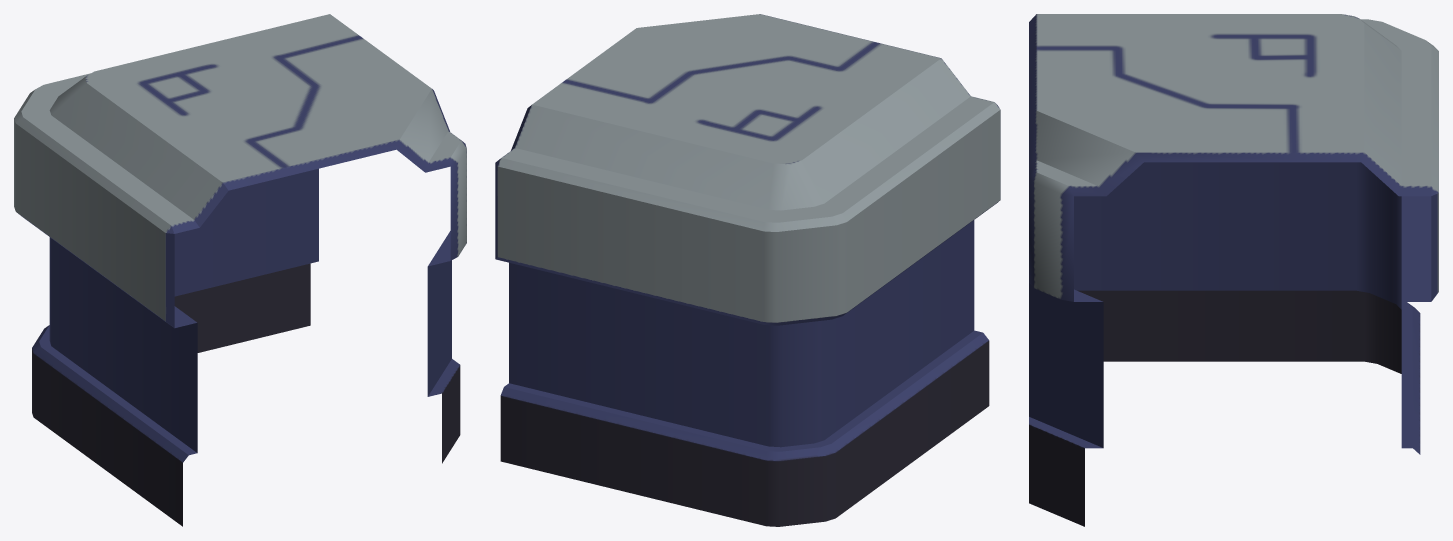
Rendered from Wall_3.FBX.
The picture shows the model from 3 angles, left to right: view 1: azimuth 30°, elevation 25°; view 2: azimuth 150°, elevation 25°; view 3: azimuth 270°, elevation 25°; orthographic projection. The views are drawn at different scales.
Visible parts, largest first — view 1: Wall_3; view 2: Wall_3; view 3: Wall_3.
Boxes of the visible parts, <box> form: Wall_3: <box>14,14,466,526</box>; Wall_3: <box>495,14,1000,526</box>; Wall_3: <box>1029,14,1438,526</box>.
Size of the model in its own units: 110 by 110 by 110.
